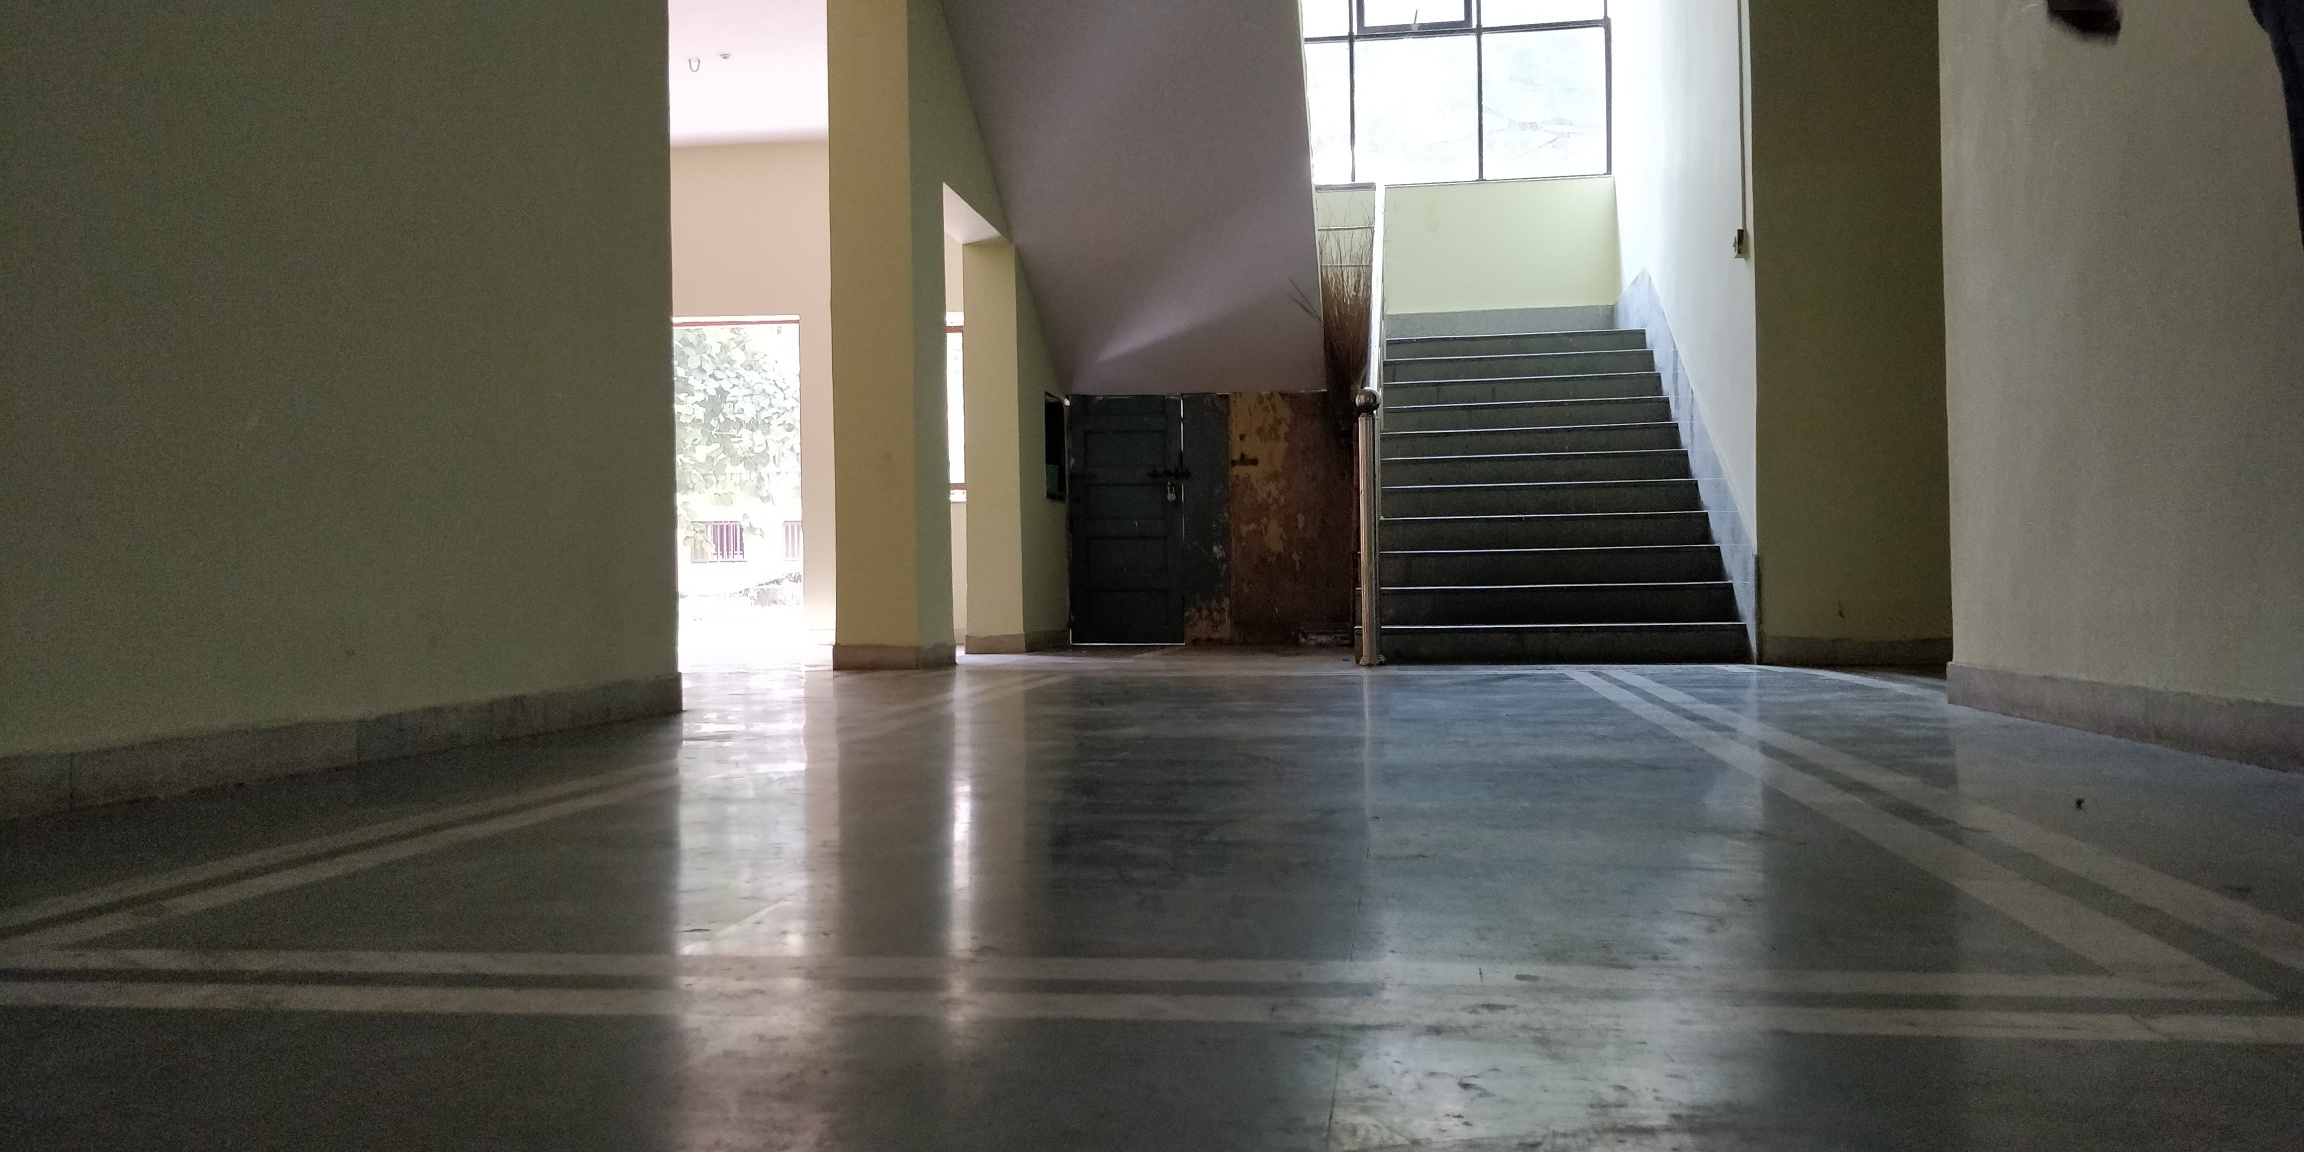stairs_up: (1381, 328, 1740, 657)
